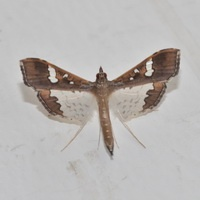insect: (20, 48, 179, 155)
